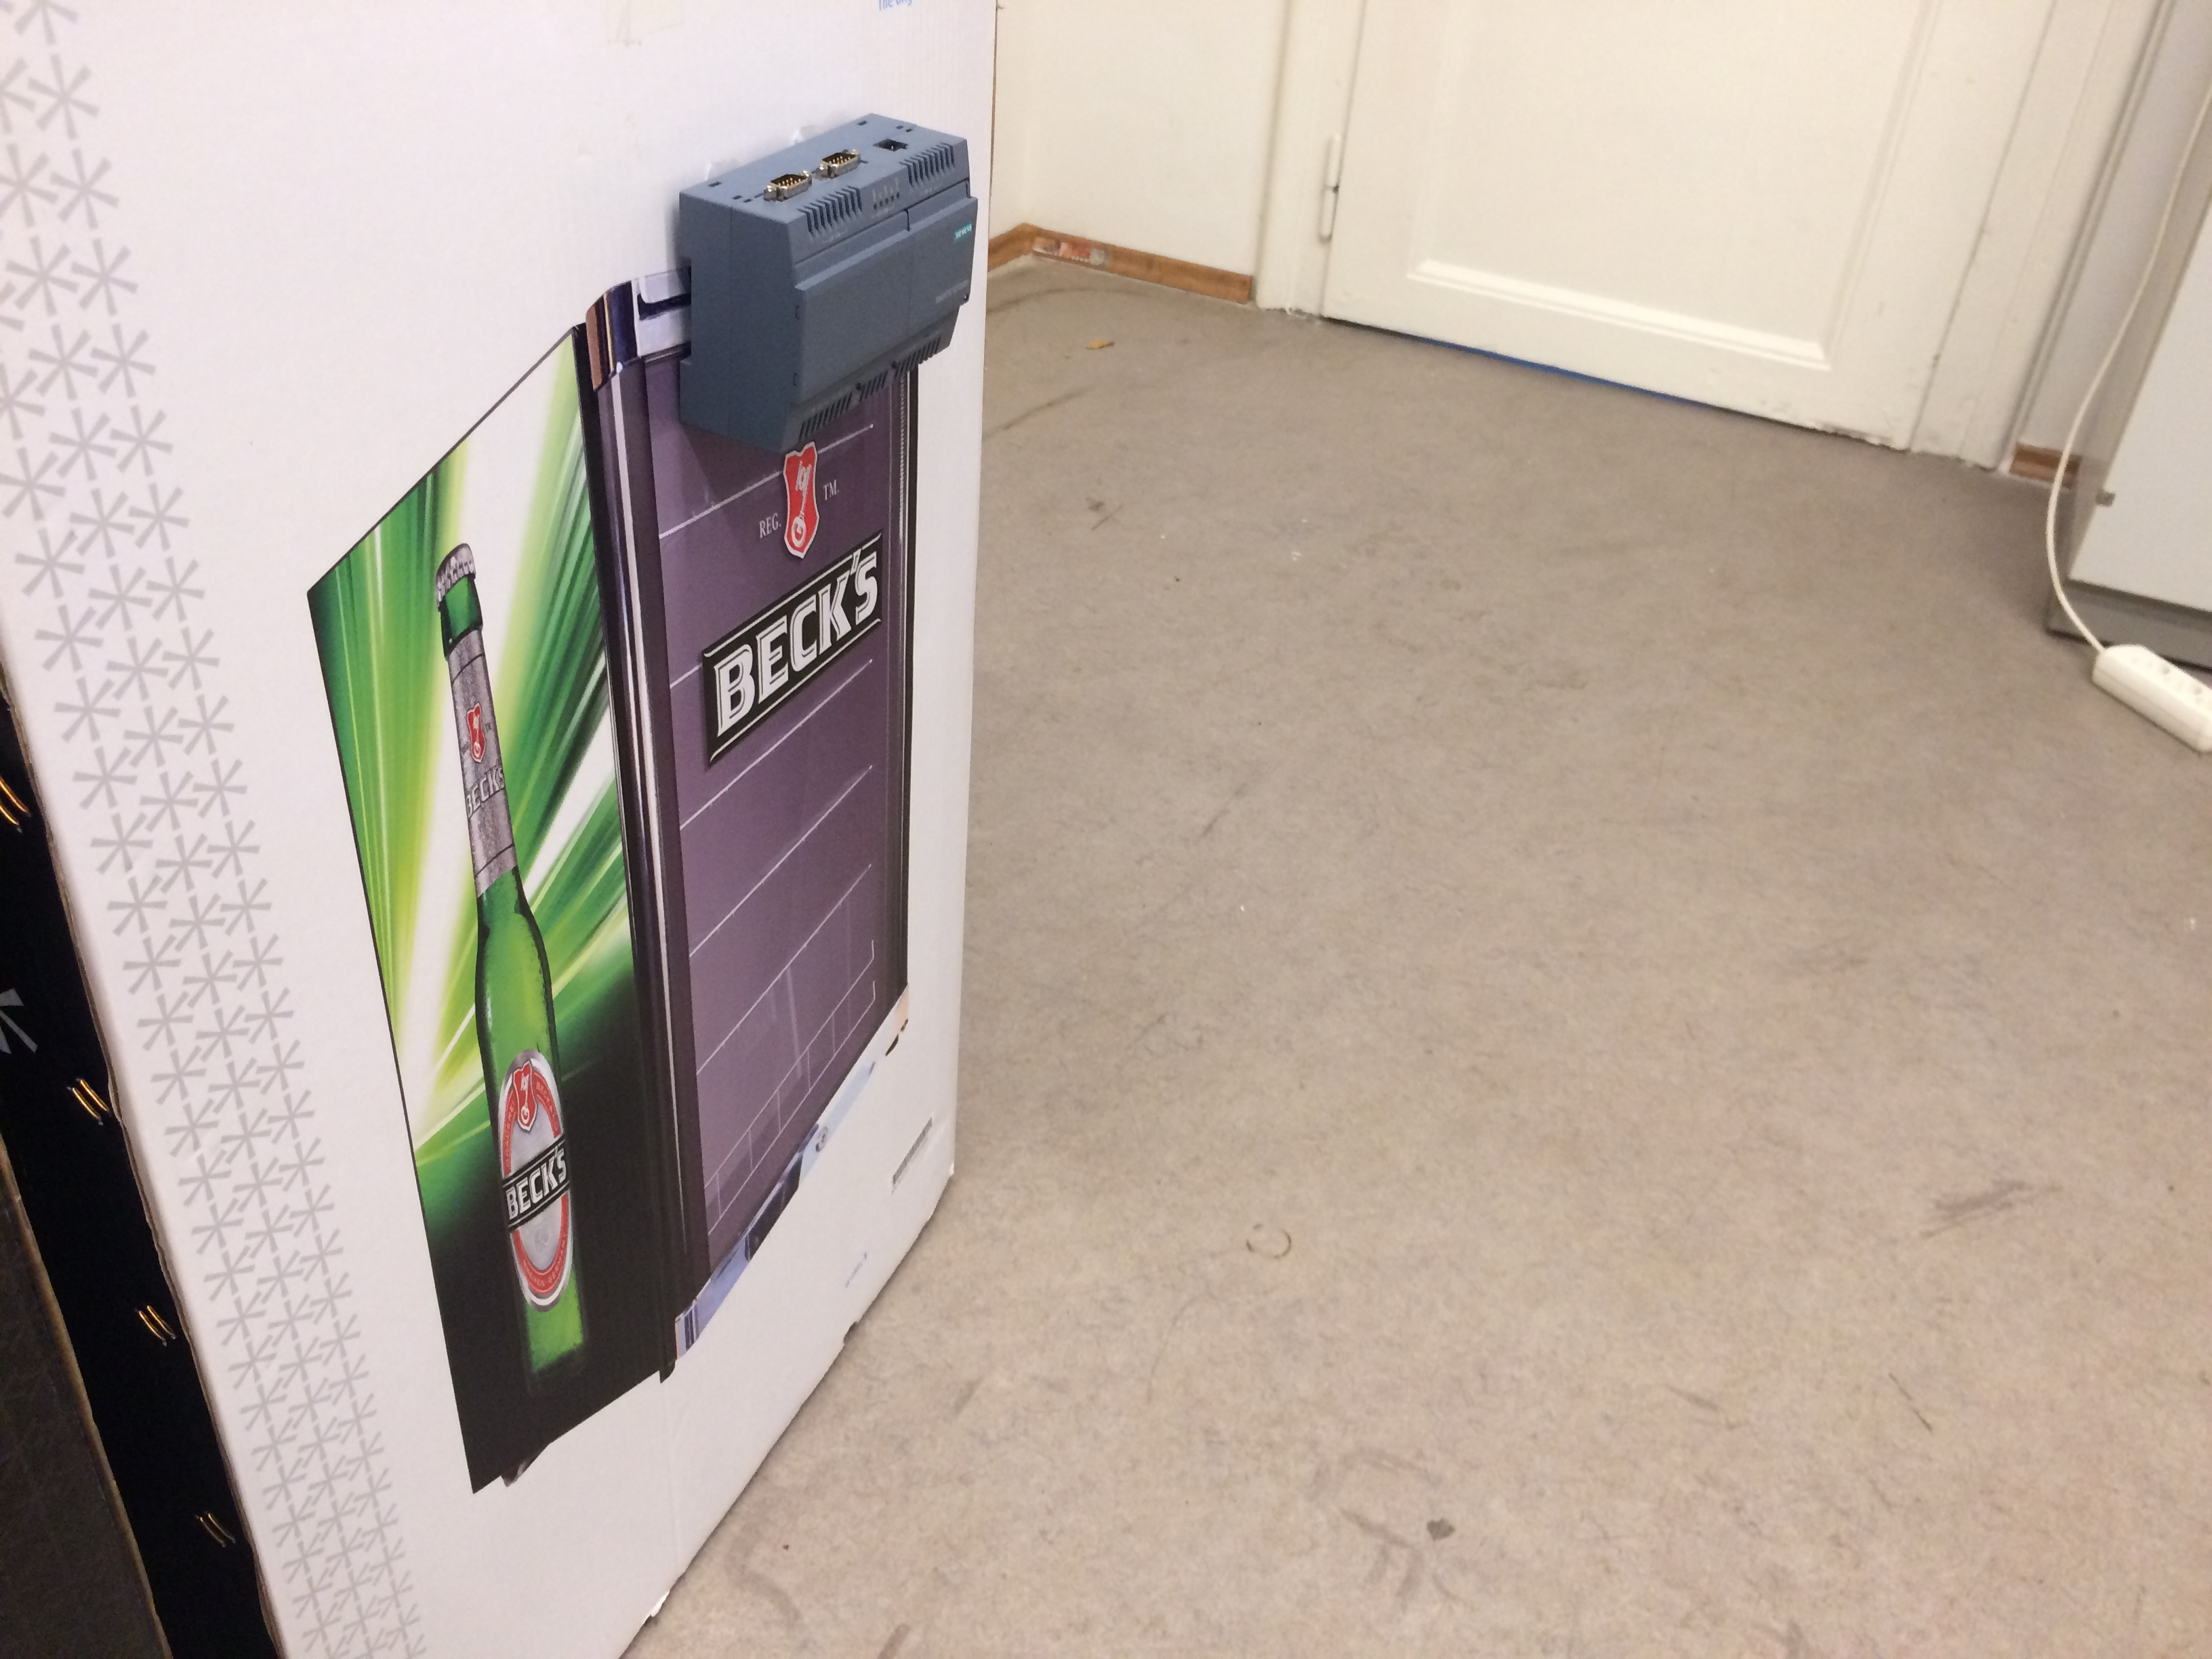iot2000: (674, 112, 981, 460)
